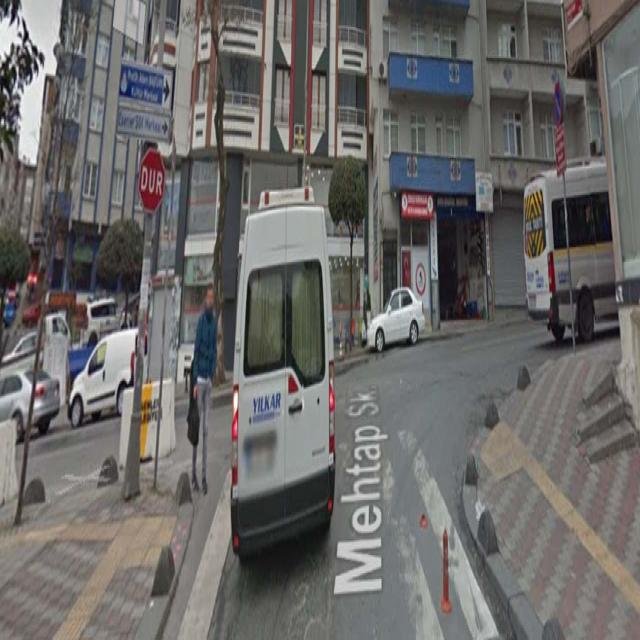dur: (138, 149, 169, 213)
parkyasak: (552, 86, 562, 126)
